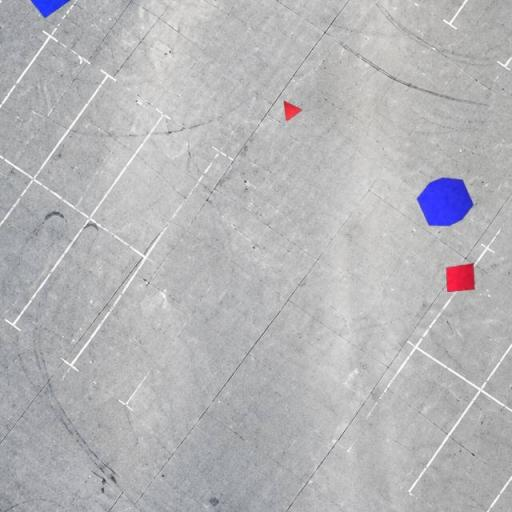RED_SQUARE: (446, 262, 476, 293)
